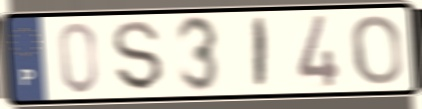0: (55, 20, 100, 96)
3: (173, 12, 223, 98)
4: (294, 12, 343, 92)
I: (251, 15, 269, 92)
O: (348, 13, 405, 88)
S: (110, 19, 167, 94)
